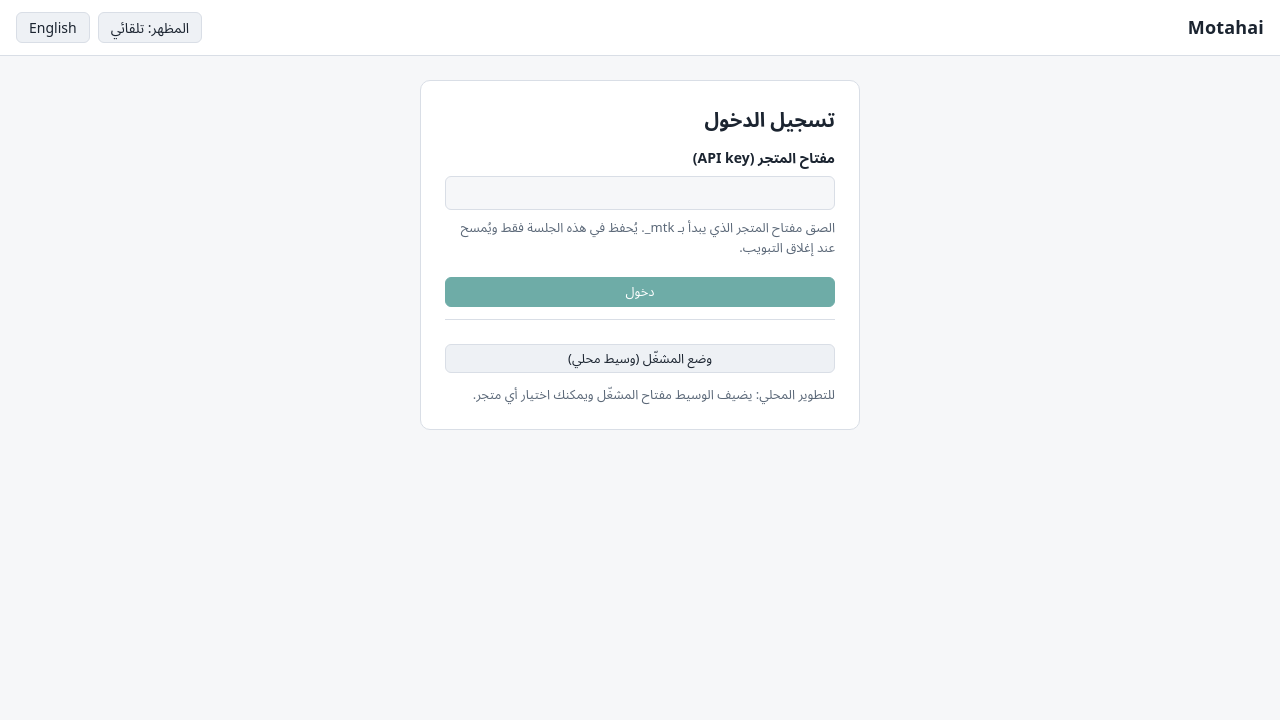
Test case: App shell › toggles to English and flips the document direction
Step 1. Click the button "وضع المشغّل (وسيط محلي)" → (640, 358), box [445,344,835,373]
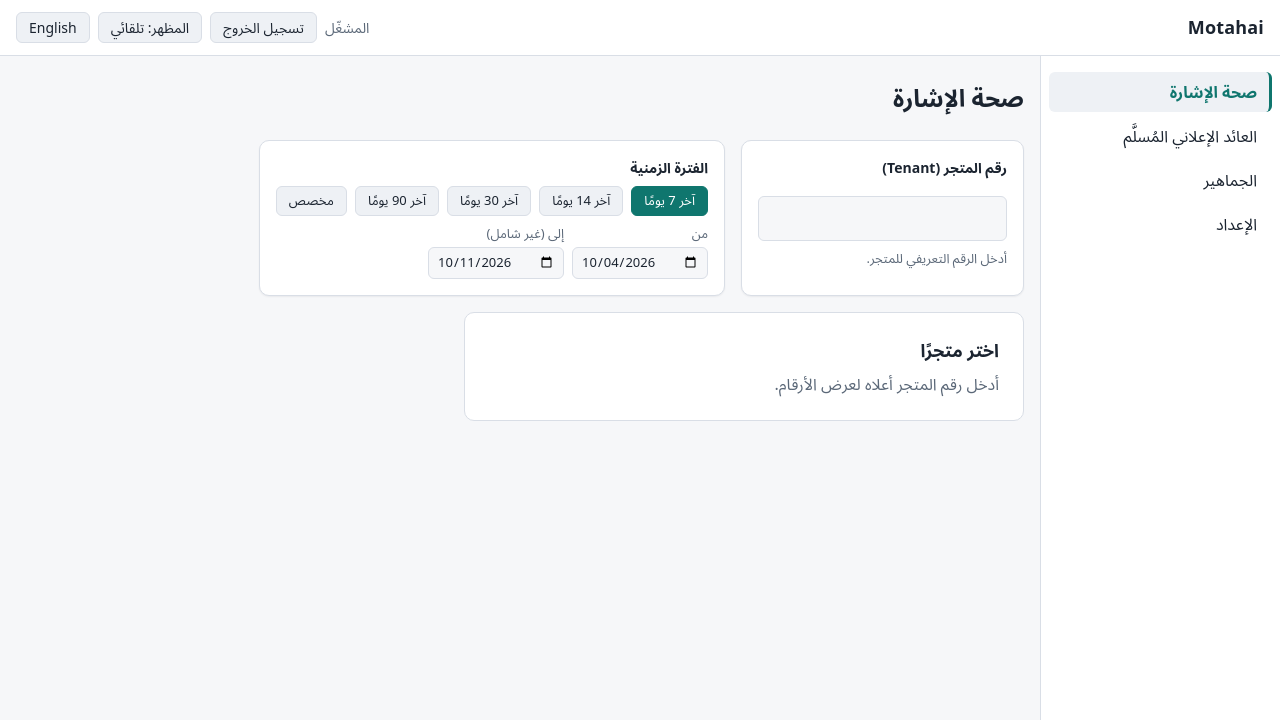
Step 2. Click the button "English" → (53, 28), box [16,12,90,43]
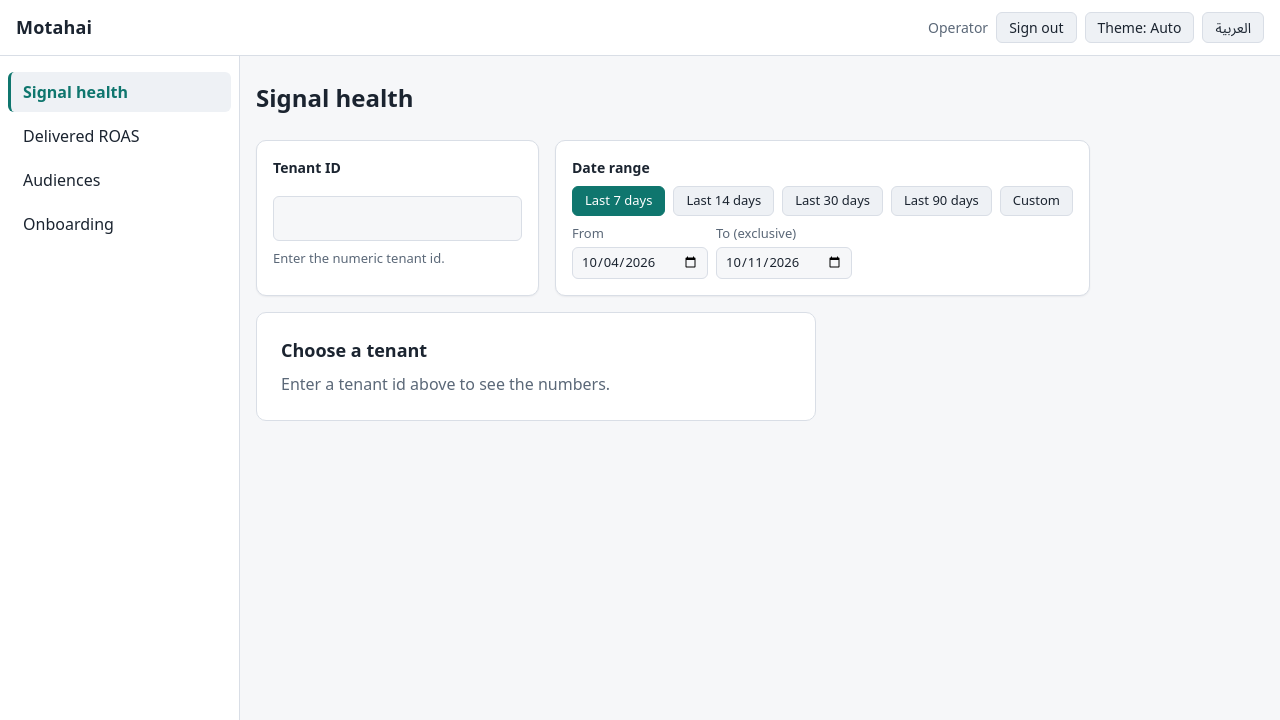
Expected: the button "العربية" is shown, [1202,12,1264,43]
Expected: the link "Delivered ROAS" is shown, [23,125,140,147]
Expected: the heading "Choose a tenant" is shown, [281,338,427,362]
